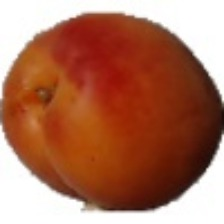apricot: (50, 29, 190, 181)
